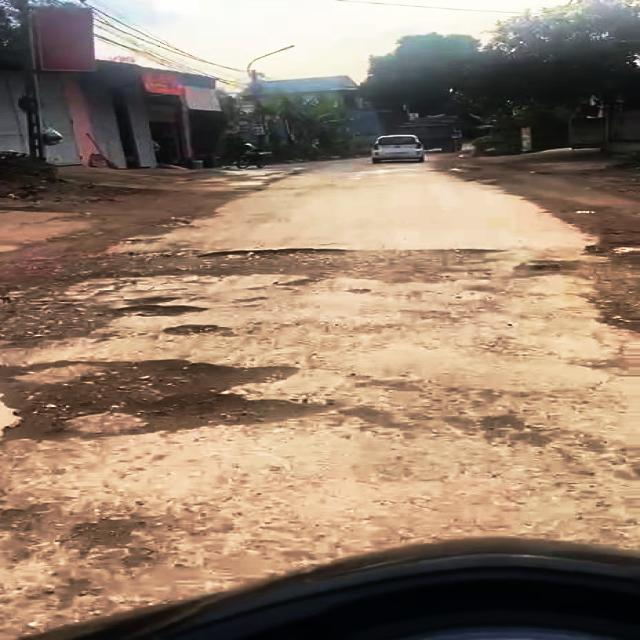pothole: (0, 354, 332, 447), (193, 245, 488, 282), (98, 302, 215, 318)
